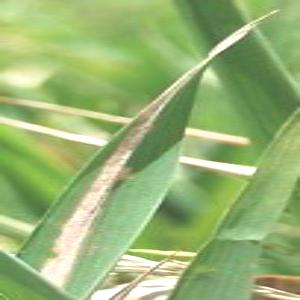2 BacterialBlight: (38, 142, 130, 289)
